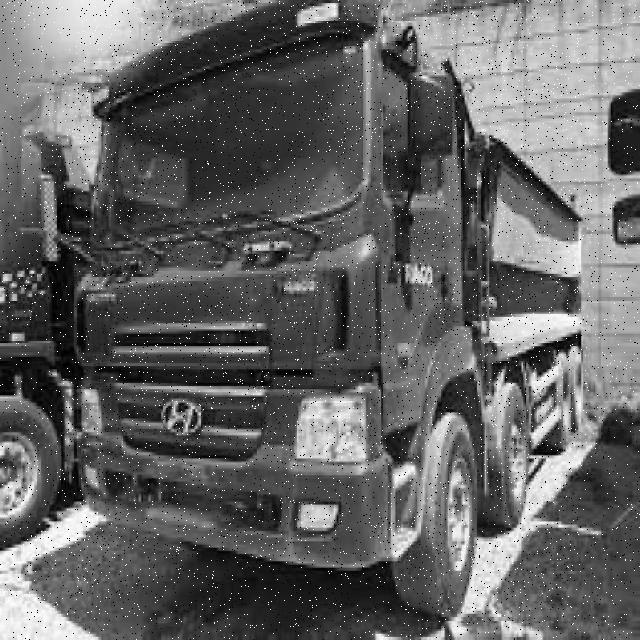Box Truck: (67, 0, 582, 622)
